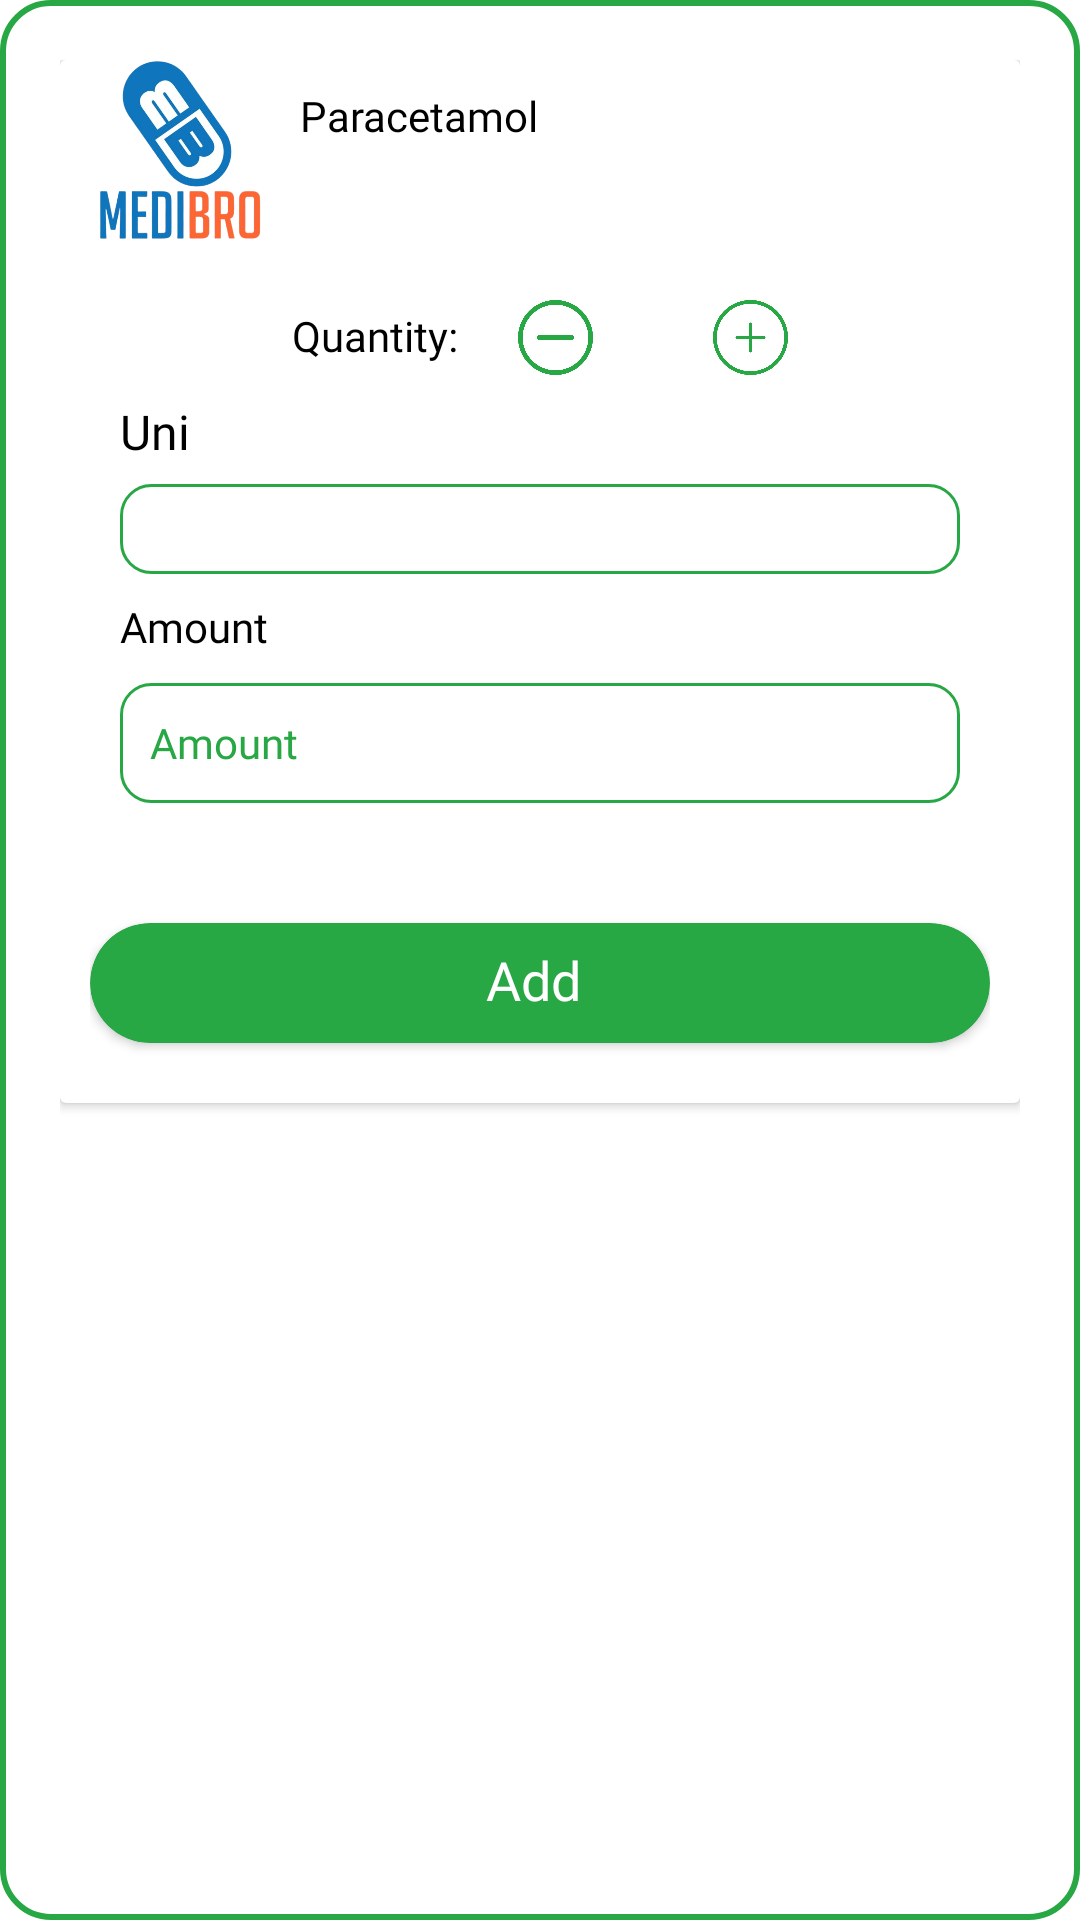

Named icons in this screenshot (1080px×1920px) and their centers, [x,y]:
add: [750,337]
minus: [555,337]
